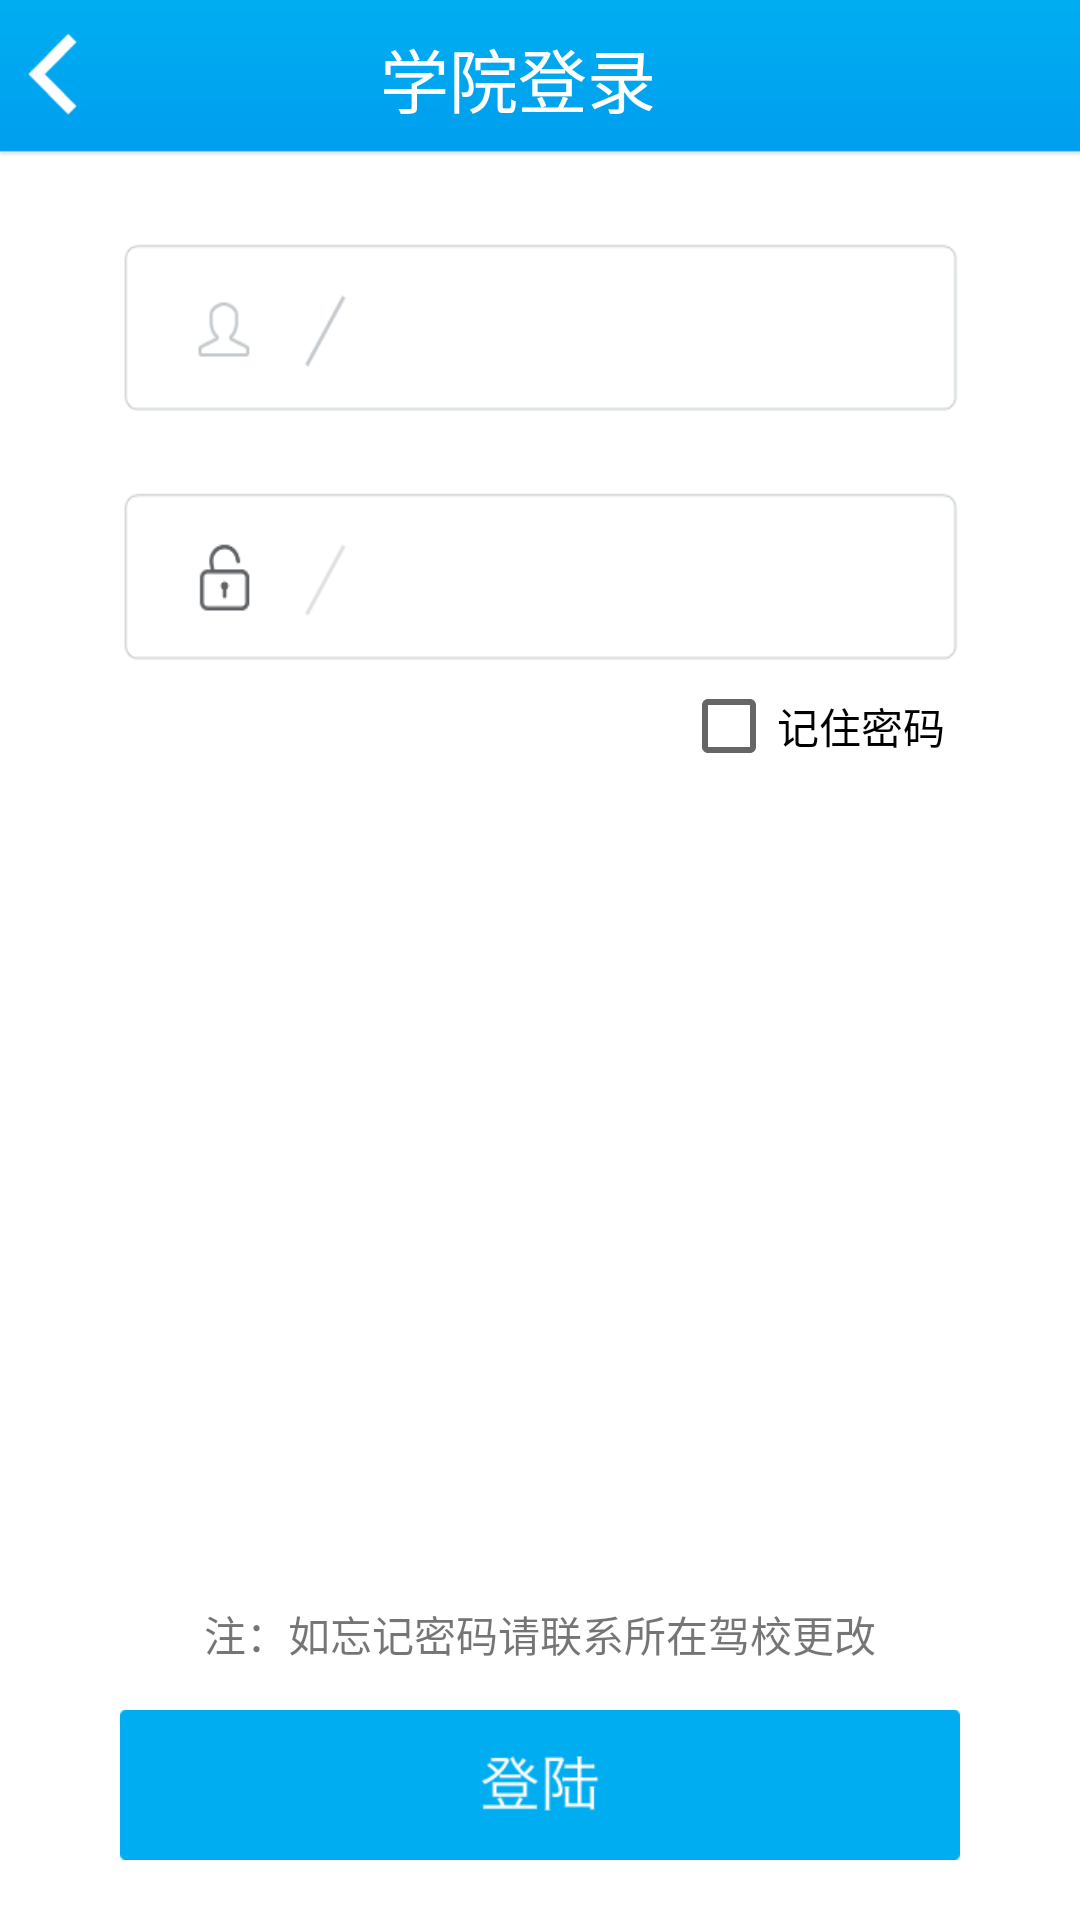

Named icons in this screenshot (1080w x 1920h) and their bounding boxes, (x1, y1, x2, y2):
all back: (28, 34, 77, 115)
